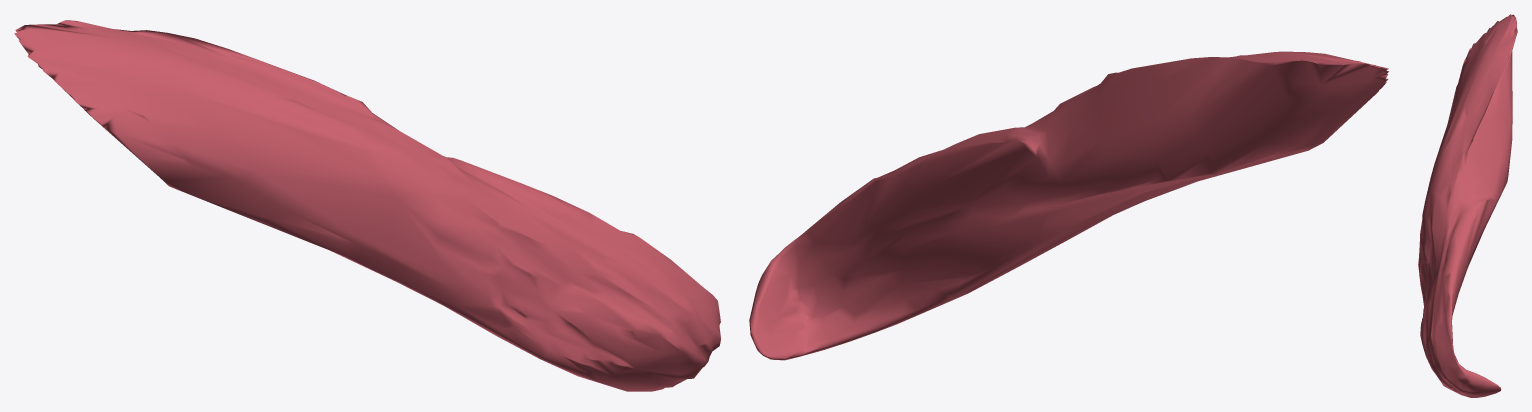
3 renders of one model, left to right at view 1: azimuth 30°, elevation 25°; view 2: azimuth 150°, elevation 25°; view 3: azimuth 270°, elevation 25°, orthographic. The views are drawn at different scales.
Visible parts, largest first — view 1: 左侧冈上肌; view 2: 左侧冈上肌; view 3: 左侧冈上肌.
Part boxes in pixels (x1,y1,x2,y2): 左侧冈上肌: (14,20,720,391); 左侧冈上肌: (749,51,1388,360); 左侧冈上肌: (1418,14,1517,397).
Size of the model in its own units: 0.1843 by 0.1249 by 0.0483.
